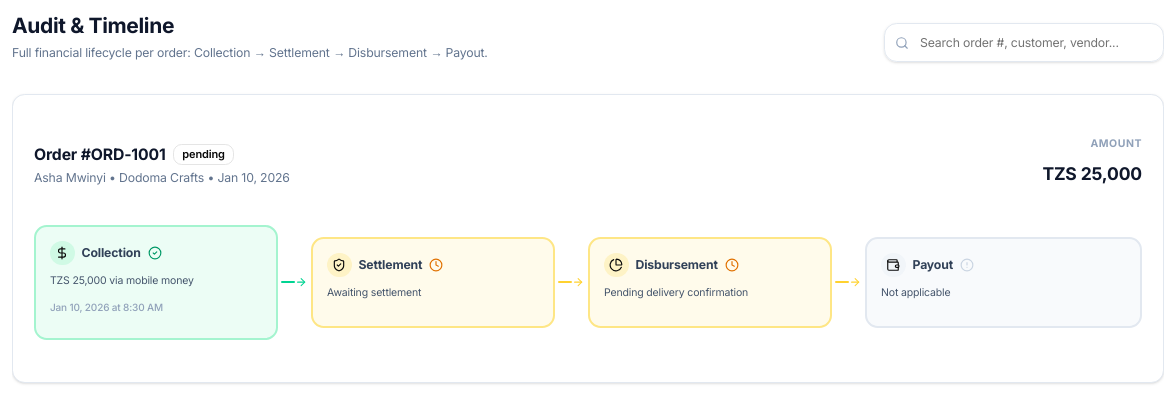
Test case: FinanceAuditTab › search › shows the no-match empty state when the search matches nothing
Type "no-such-order" into the field with placeholder "Search order #, customer, vendor..." at coordinates (1024, 43), box [884, 23, 1164, 62]
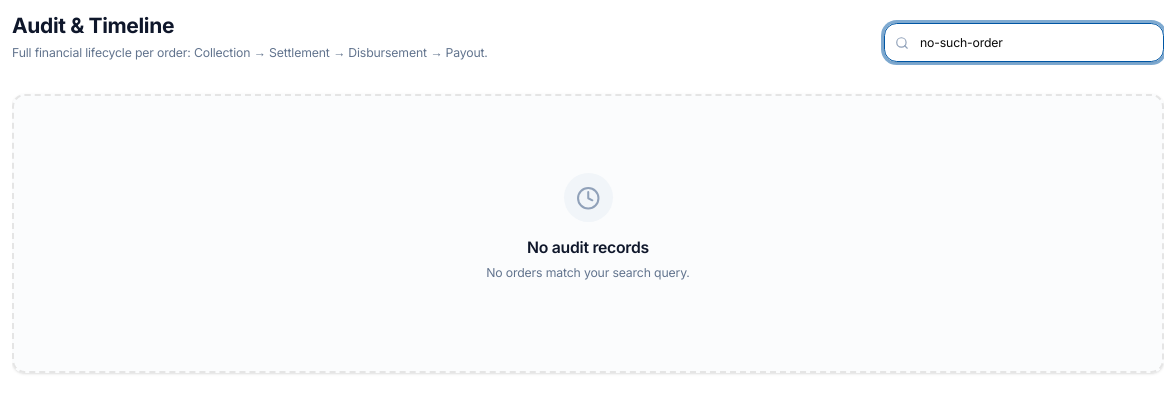
Check: the heading "No audit records" is shown, box [527, 238, 649, 257]
Check: the text "No orders match your search query." is shown, box [486, 265, 690, 280]
